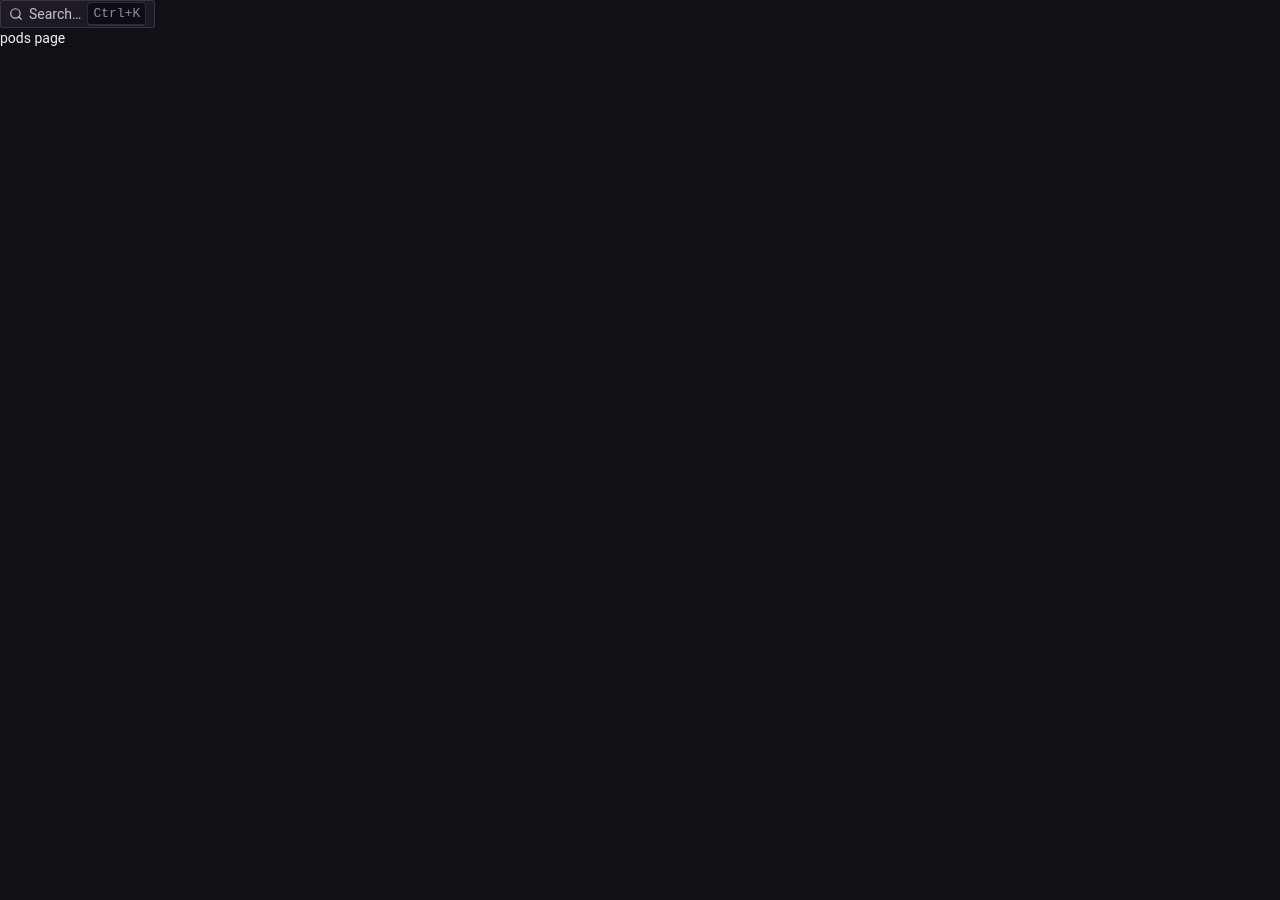
command center local resource search (F5-06) › searches identifiers of loaded resources without opening network requests
The image size is (1280, 900).
Press k
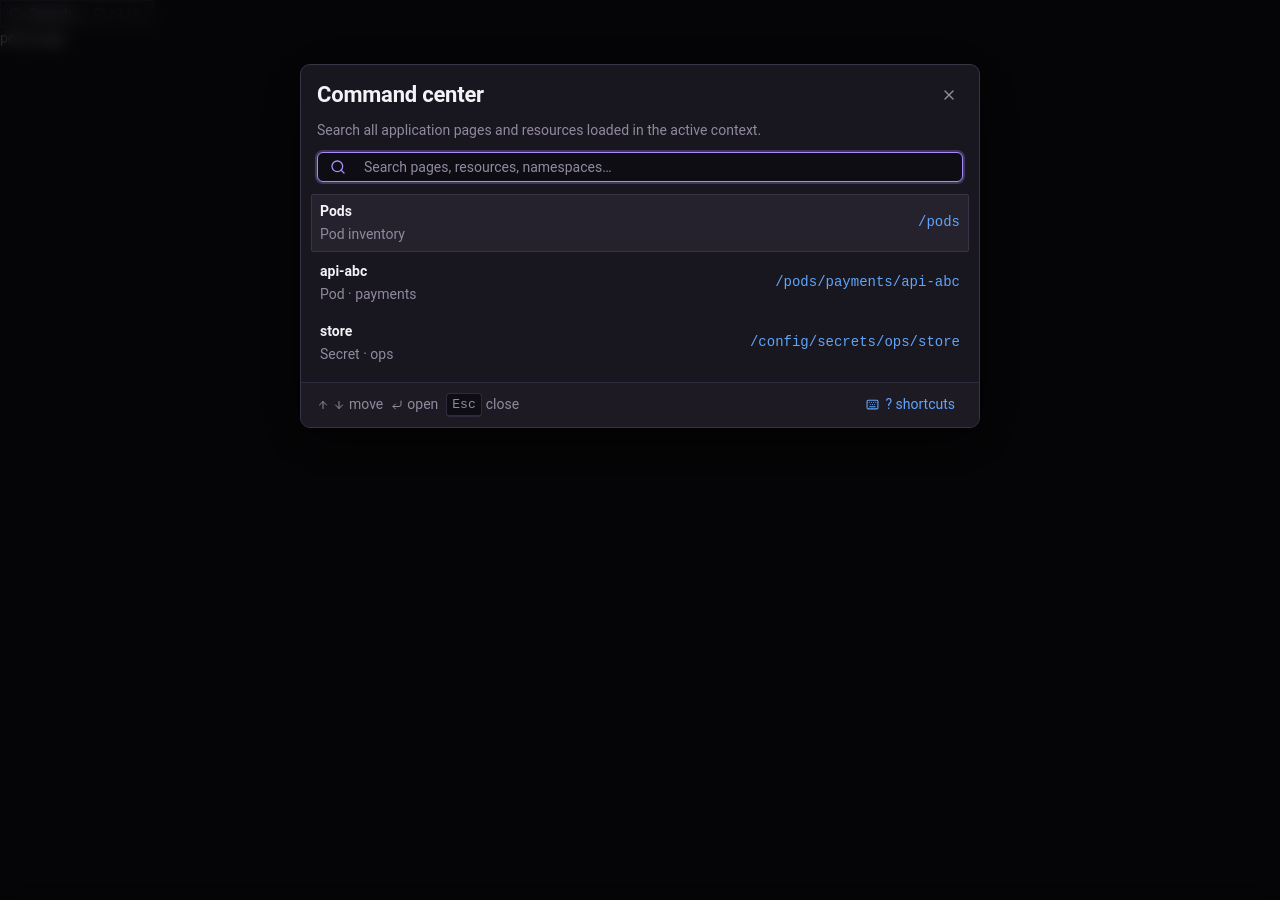
Type "payments pod" into the dropdown named "Search pages and resources" at (653,167), box [356,153,950,181]
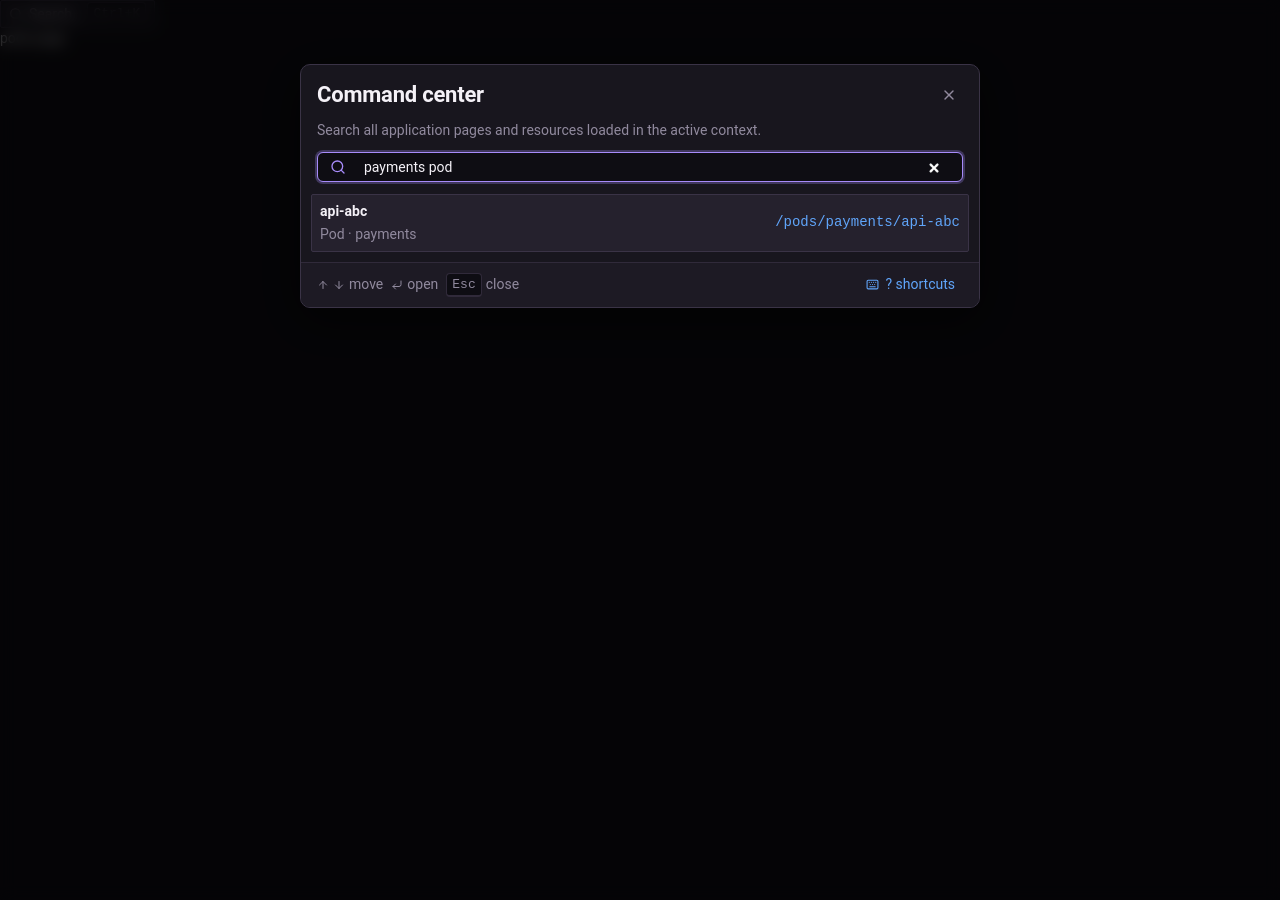
Expected: the option "api-abc Pod · payments /pods/payments/api-abc" is shown, [311,194,969,252]
Expected: the option "store" is gone
